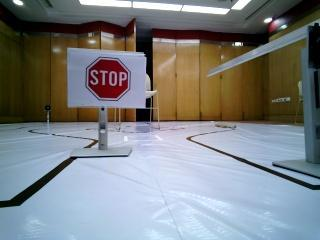stop: (79, 53, 137, 102)
